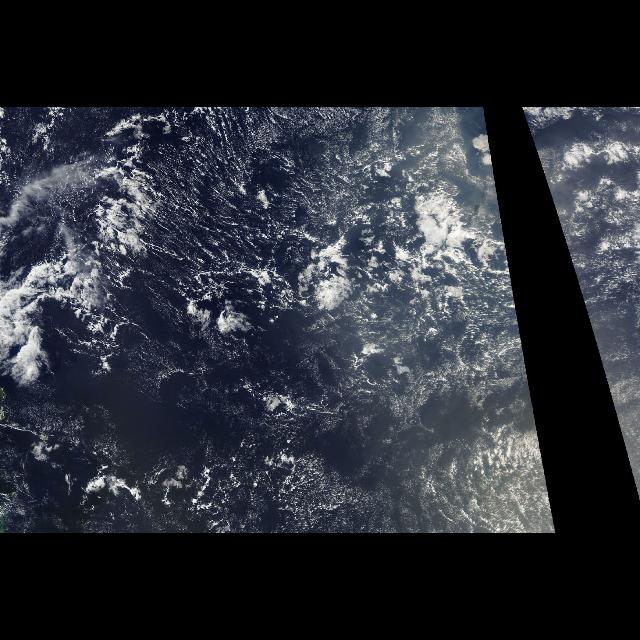Gravel: (97, 164, 533, 423)
Sugar: (138, 107, 386, 255), (270, 423, 548, 533)
